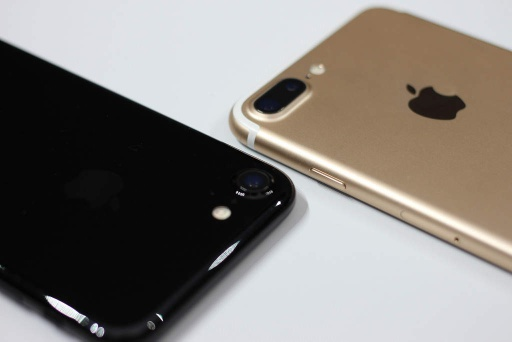apple: (44, 151, 154, 224), (387, 69, 471, 142)
